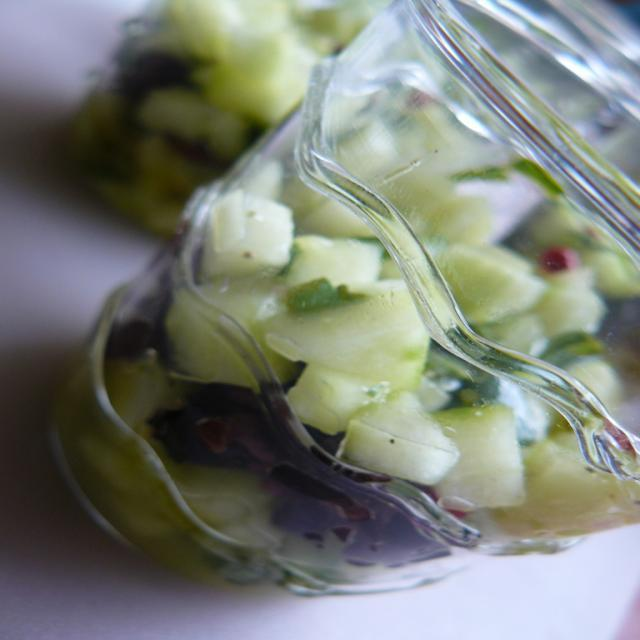Cucumber: (69, 195, 640, 597), (68, 0, 639, 270), (421, 403, 527, 513)
